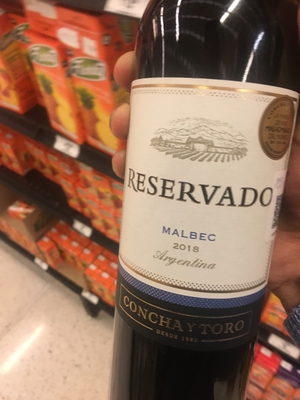reservado malbec: (106, 13, 290, 400)
